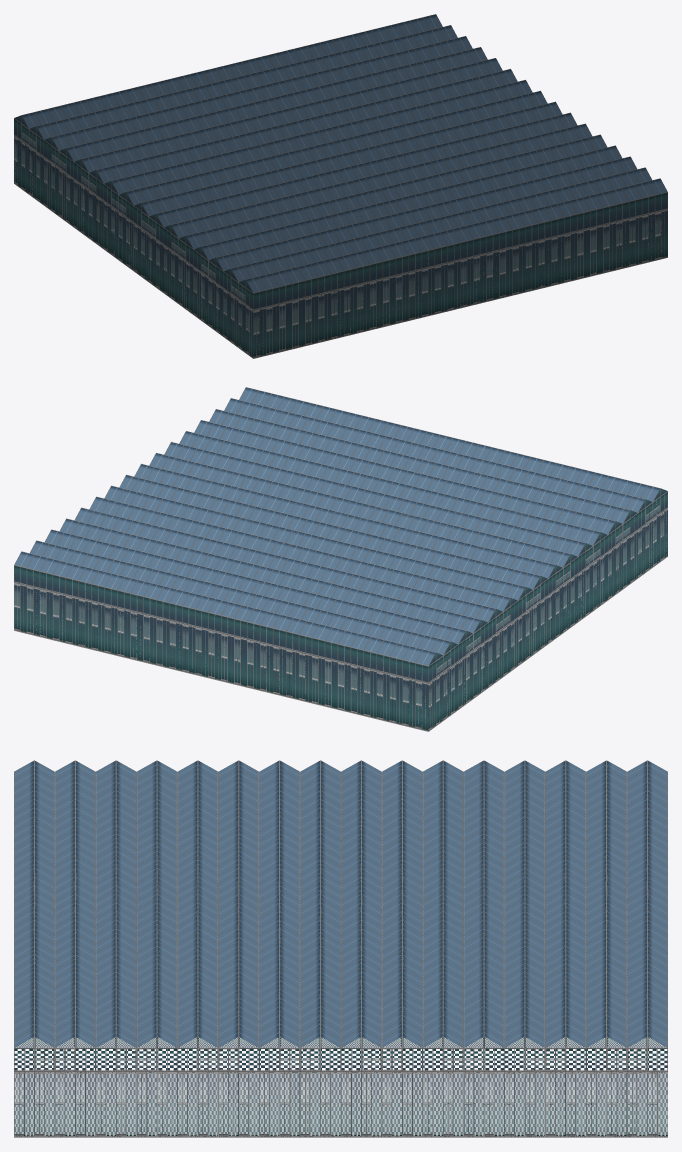
File: kas_mod2_5a.fbx
3 renders of one model, top to bottom at view 1: azimuth 30°, elevation 25°; view 2: azimuth 150°, elevation 25°; view 3: azimuth 270°, elevation 25°, orthographic. The views are drawn at different scales.
Visible parts, largest first — view 1: kas_mod2_5a; view 2: kas_mod2_5a; view 3: kas_mod2_5a.
Boxes of the visible parts, left/top/right/bottom form: kas_mod2_5a: left=14, top=14, right=667, bottom=358; kas_mod2_5a: left=14, top=387, right=667, bottom=731; kas_mod2_5a: left=14, top=760, right=667, bottom=1137.
Size of the model in its own units: 8000 by 1364 by 8000.
